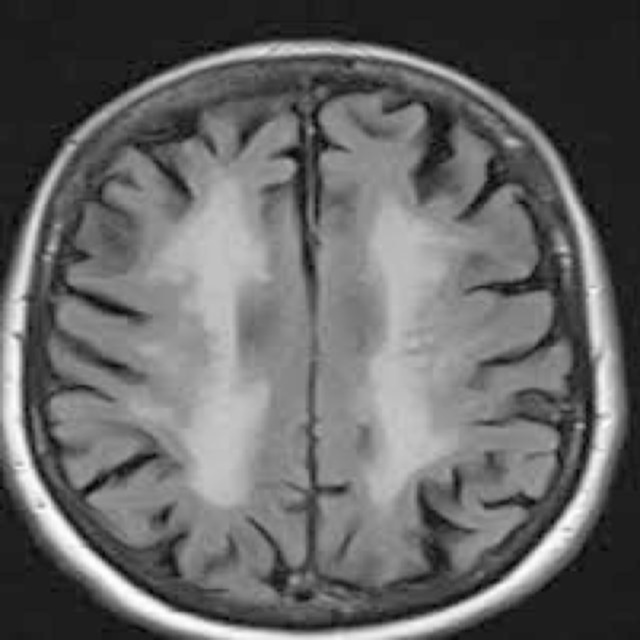glioma tumor: (121, 115, 519, 581)
